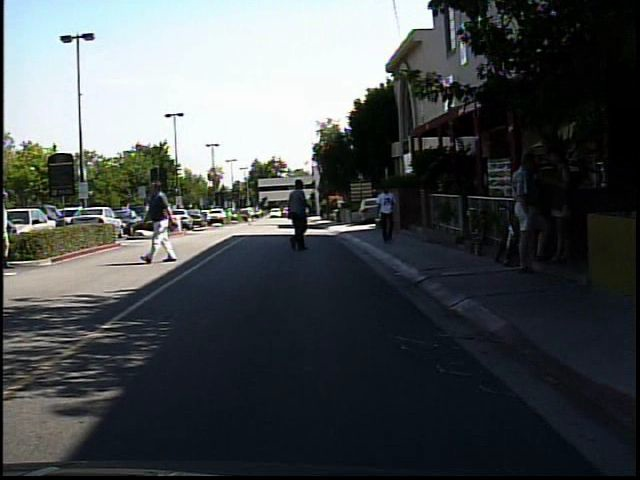person: (509, 143, 551, 276), (541, 145, 577, 269), (282, 174, 323, 253), (146, 178, 181, 268), (371, 179, 402, 246), (2, 183, 22, 272), (159, 199, 176, 231), (243, 203, 258, 228)
